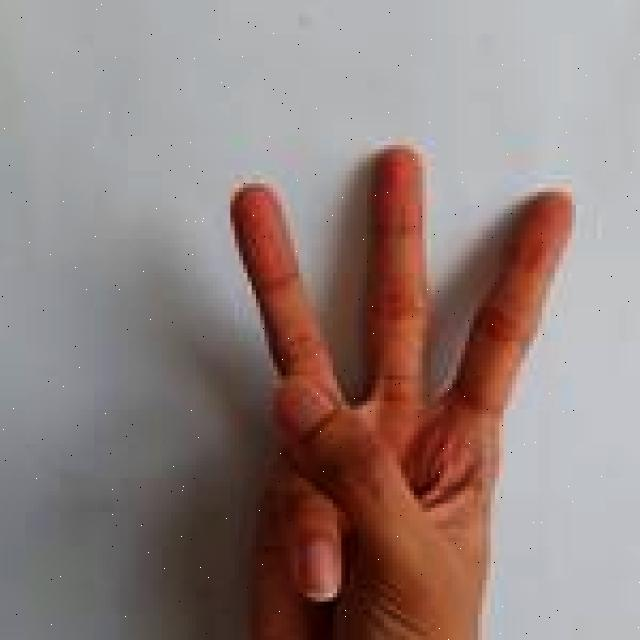W: (221, 137, 579, 640)
